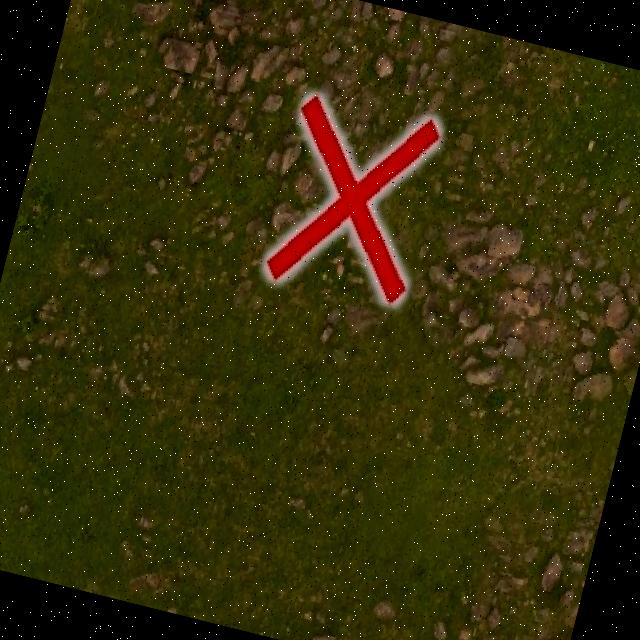x_marker: (260, 87, 444, 308)
